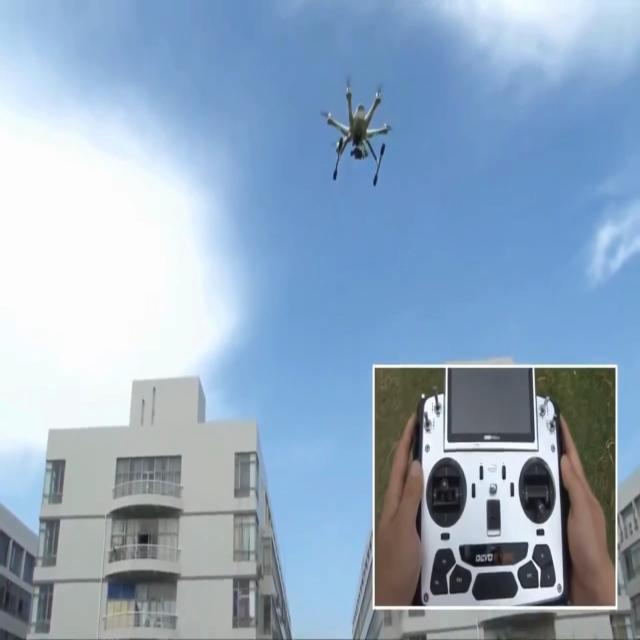drone: (320, 77, 393, 186)
